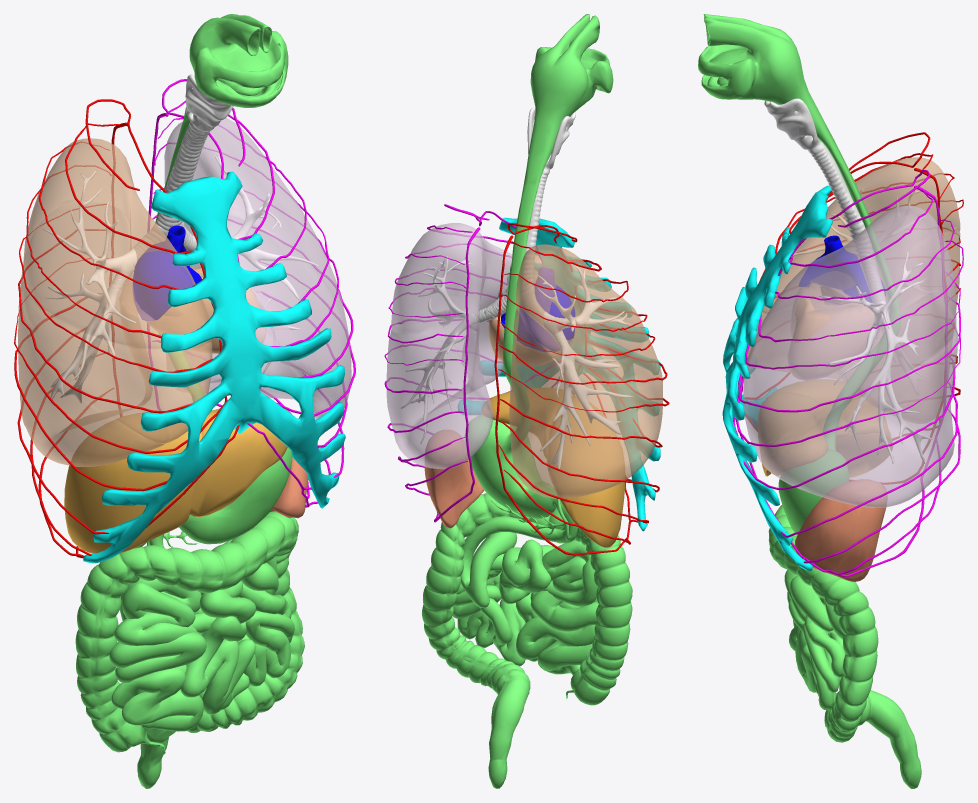
3 renders of one model, left to right at view 1: azimuth 30°, elevation 25°; view 2: azimuth 150°, elevation 25°; view 3: azimuth 270°, elevation 25°, orthographic. The views are drawn at different scales.
Visible parts, largest first — view 1: 消化道, 右肺[#], 肋软骨, 左肺[#], 肝脏, 气管, 右肋骨血管, 左肋骨血管, 上腔, 心包, 脾脏; view 2: 消化道, 右肺[#], 左肺[#], 气管, 肋软骨, 肝脏, 右肋骨血管, 左肋骨血管, 脾脏, 上腔, 心包; view 3: 左肺[#], 消化道, 右肺[#], 肋软骨, 左肋骨血管, 气管, 肝脏, 脾脏, 心包, 右肋骨血管, 上腔.
Part boxes in pixels (bbox=[...]): 消化道: bbox=[75, 14, 304, 788]; 右肺[#]: bbox=[18, 138, 212, 466]; 肋软骨: bbox=[83, 171, 345, 563]; 左肺[#]: bbox=[164, 118, 351, 419]; 肝脏: bbox=[64, 408, 287, 553]; 气管: bbox=[43, 74, 318, 403]; 右肋骨血管: bbox=[14, 99, 239, 558]; 左肋骨血管: bbox=[147, 79, 355, 507]; 上腔: bbox=[133, 225, 202, 320]; 心包: bbox=[146, 267, 266, 353]; 脾脏: bbox=[270, 408, 308, 518]; 消化道: bbox=[422, 14, 632, 788]; 右肺[#]: bbox=[509, 244, 662, 498]; 左肺[#]: bbox=[386, 223, 537, 469]; 气管: bbox=[401, 108, 632, 471]; 肋软骨: bbox=[458, 217, 660, 531]; 肝脏: bbox=[481, 388, 624, 547]; 右肋骨血管: bbox=[494, 223, 669, 555]; 左肋骨血管: bbox=[384, 204, 563, 522]; 脾脏: bbox=[424, 430, 484, 528]; 上腔: bbox=[501, 268, 575, 351]; 心包: bbox=[488, 315, 560, 365]; 左肺[#]: bbox=[743, 205, 957, 507]; 消化道: bbox=[698, 14, 921, 788]; 右肺[#]: bbox=[747, 157, 960, 423]; 肋软骨: bbox=[722, 185, 832, 570]; 左肋骨血管: bbox=[733, 170, 963, 577]; 气管: bbox=[764, 98, 934, 463]; 肝脏: bbox=[758, 379, 892, 477]; 脾脏: bbox=[795, 479, 887, 581]; 心包: bbox=[787, 282, 874, 380]; 右肋骨血管: bbox=[744, 132, 963, 484]; 上腔: bbox=[799, 235, 885, 305].
Size of the model in its own units: 0.2813 by 0.7643 by 0.2382.
